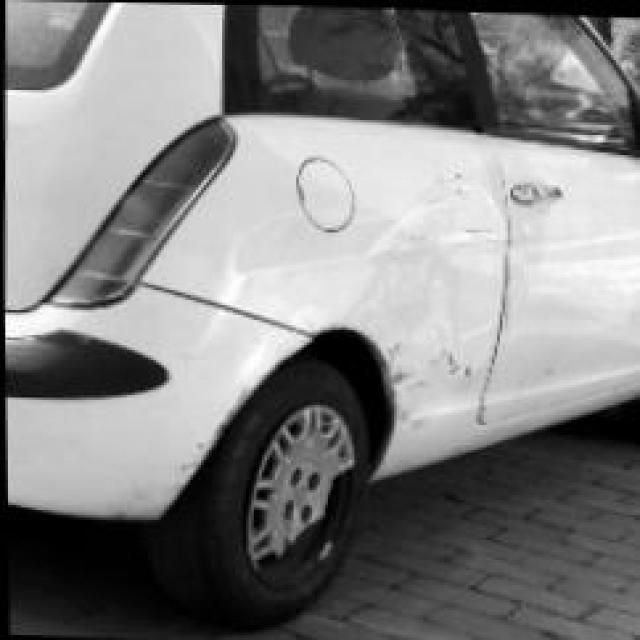Door: (312, 130, 509, 436)
